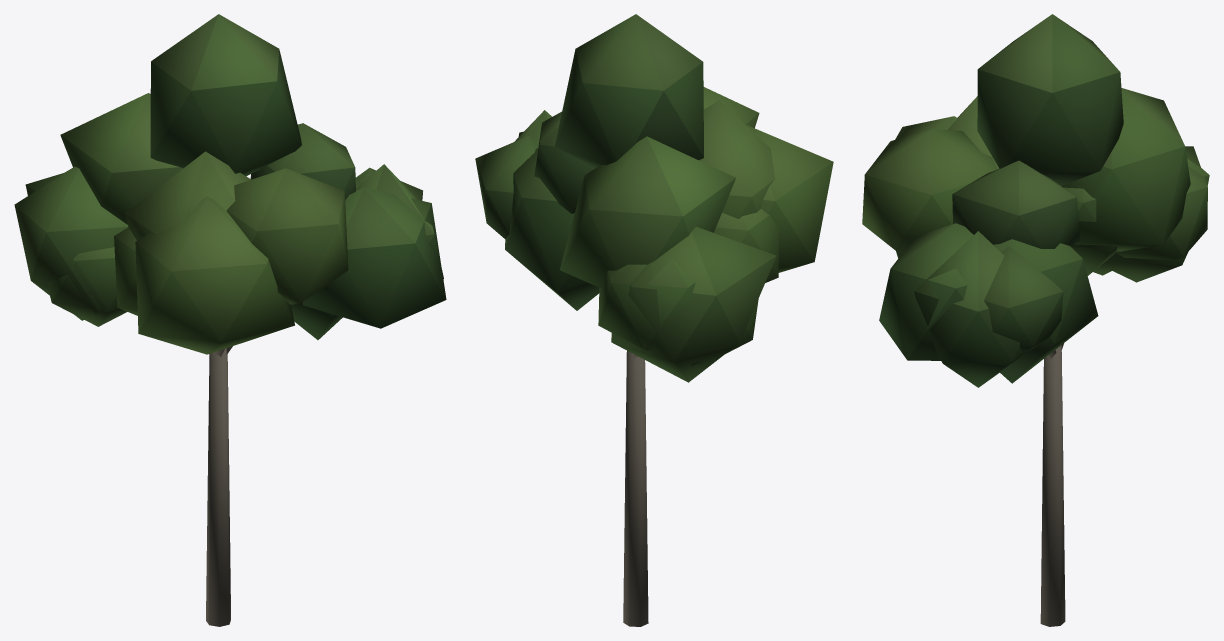
File: env_ash_t.glb
3 views of the same model, side by side, from view 1: azimuth 30°, elevation 25°; view 2: azimuth 150°, elevation 25°; view 3: azimuth 270°, elevation 25° (orthographic).
Parts seen in each view (by area): view 1: env_ash_t; view 2: env_ash_t; view 3: env_ash_t.
Part boxes in pixels (left/top/right/bottom): env_ash_t: left=14, top=14, right=446, bottom=626; env_ash_t: left=475, top=14, right=833, bottom=626; env_ash_t: left=862, top=14, right=1209, bottom=626.
Size of the model in its own units: 12.67 by 21.67 by 11.24.
